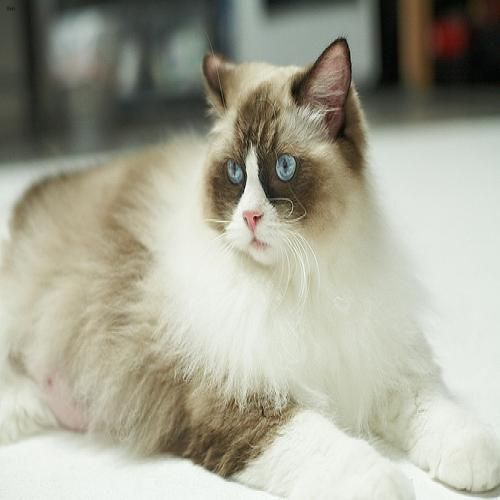ragdoll: (192, 35, 373, 282)
